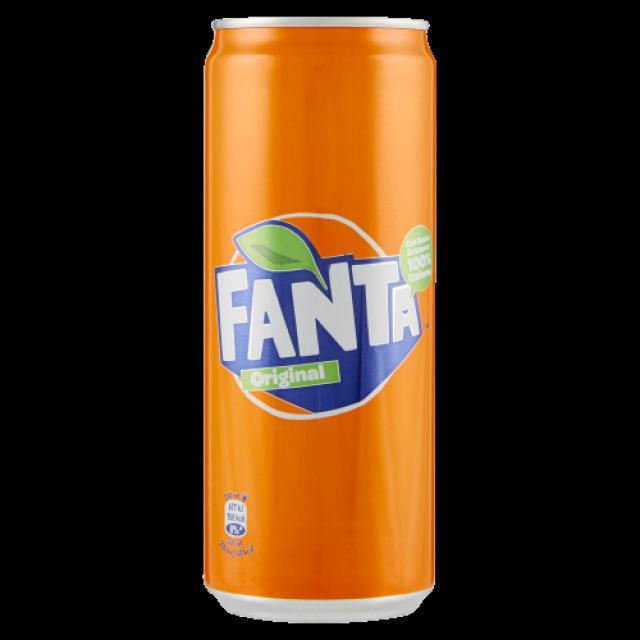fanta: (195, 19, 440, 621)
